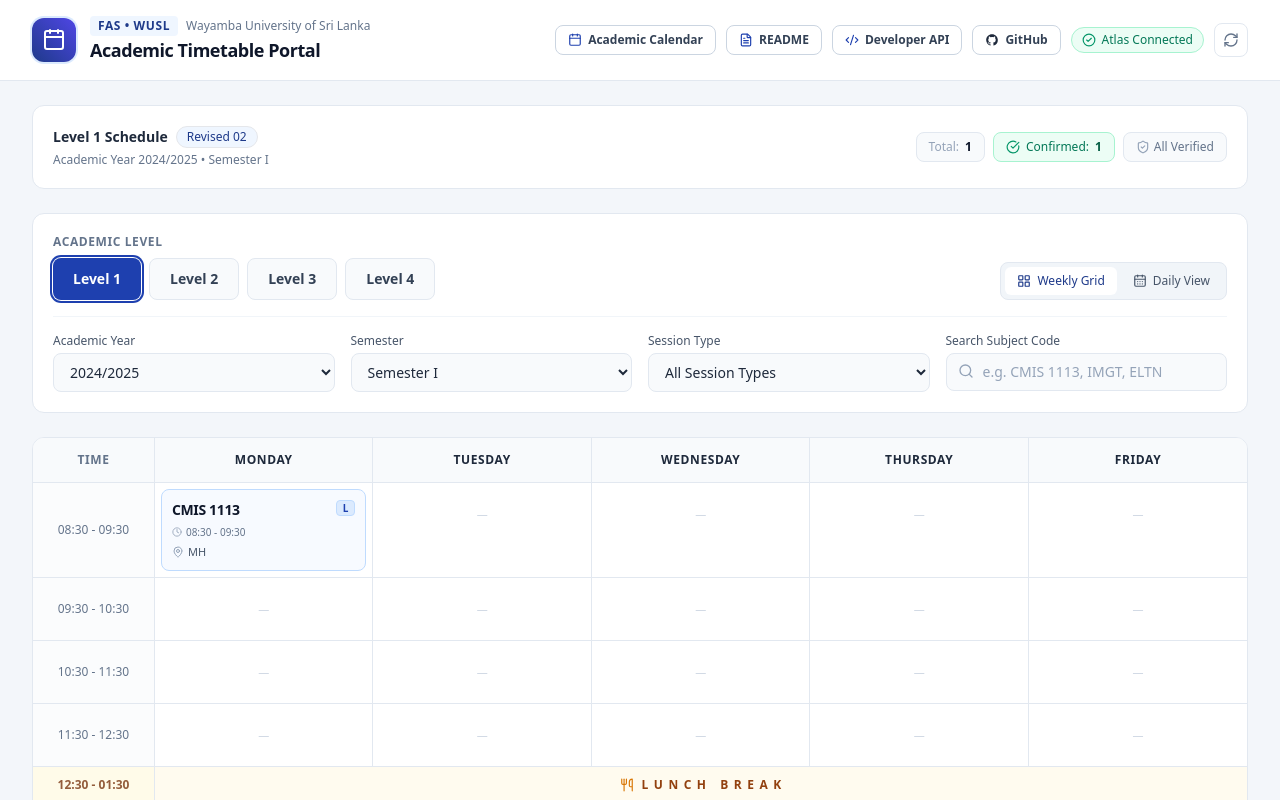
Test case: FAS WUSL Timetable App › renders empty state when search finds no sessions and allows reset
Expected: the text "CMIS 1113" is shown, [172, 500, 240, 520]
Note: Enter a search query that matches nothing
Type "NONEXISTENT999" into the field with placeholder "e.g. CMIS 1113, IMGT, ELTN" at point(1086, 372), box [946, 353, 1227, 391]
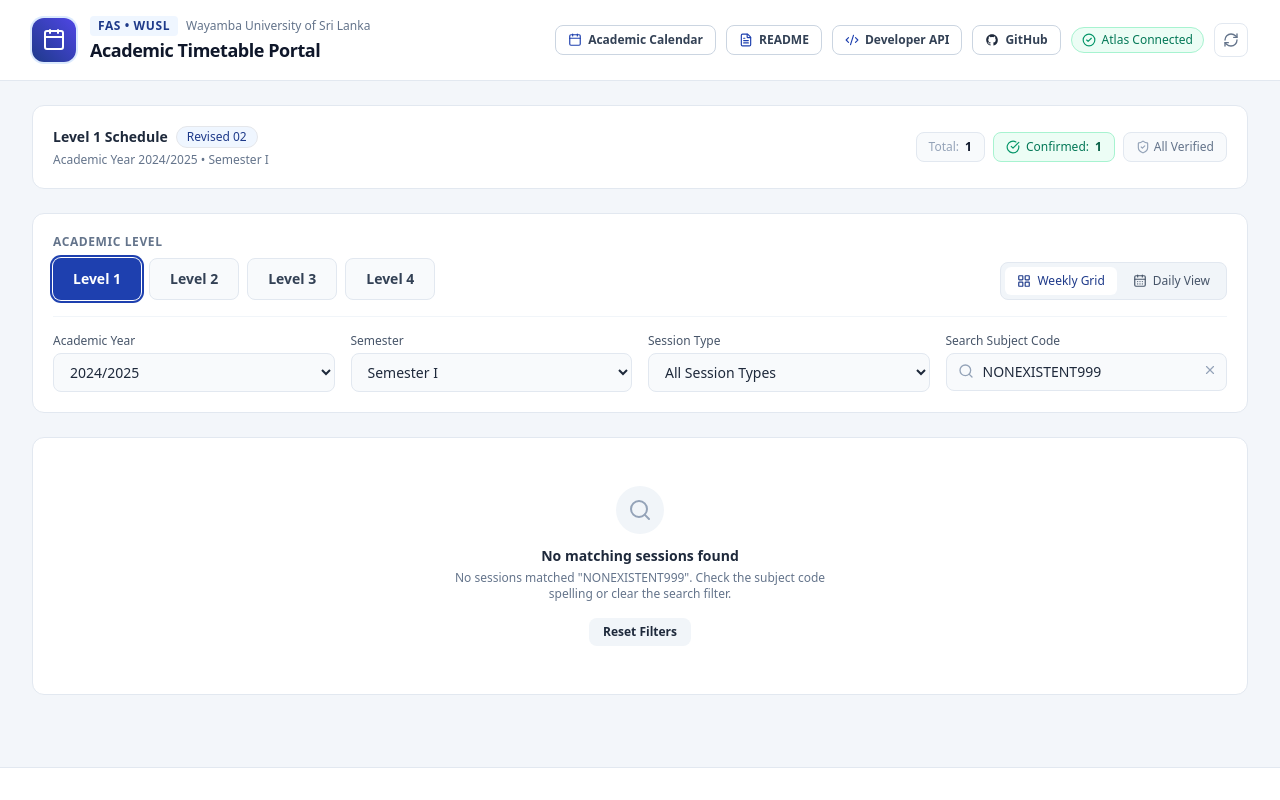
Now the heading "No matching sessions found" is shown, box [541, 546, 739, 565]
Now the button "Reset Filters" is shown
Note: Click Reset Filters
Click the button "Reset Filters" at point(640, 632), box [589, 618, 691, 646]
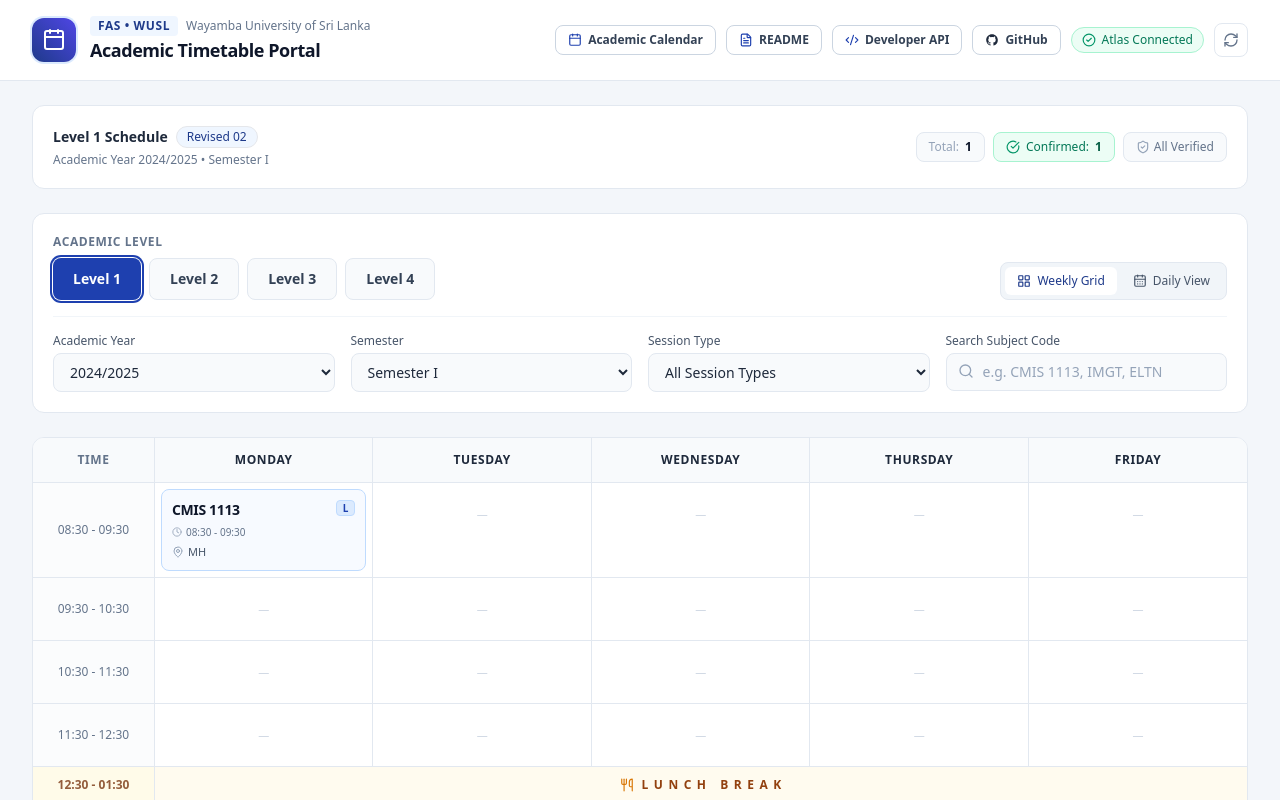
Now the text "CMIS 1113" is shown, box [172, 500, 240, 520]
